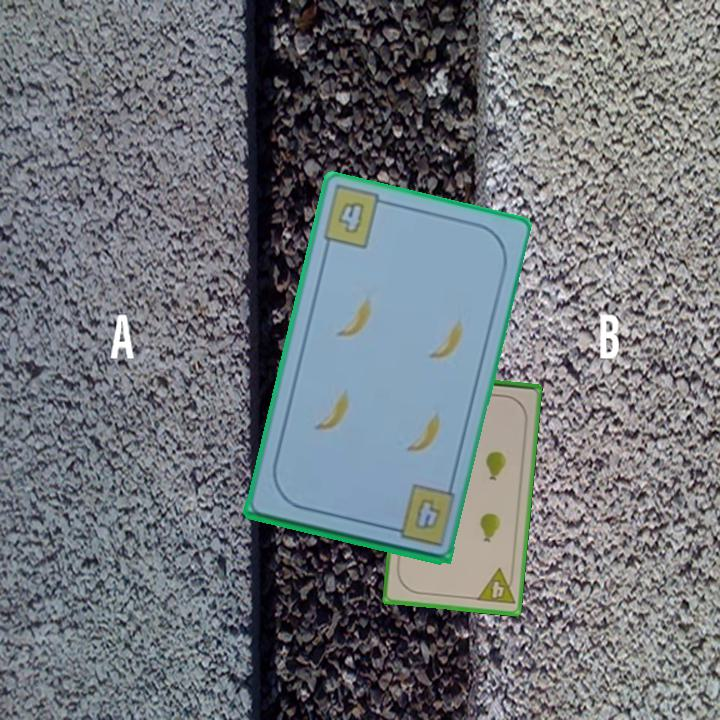4b: (319, 184, 392, 251), (410, 494, 444, 532)
4p: (473, 565, 518, 608)
